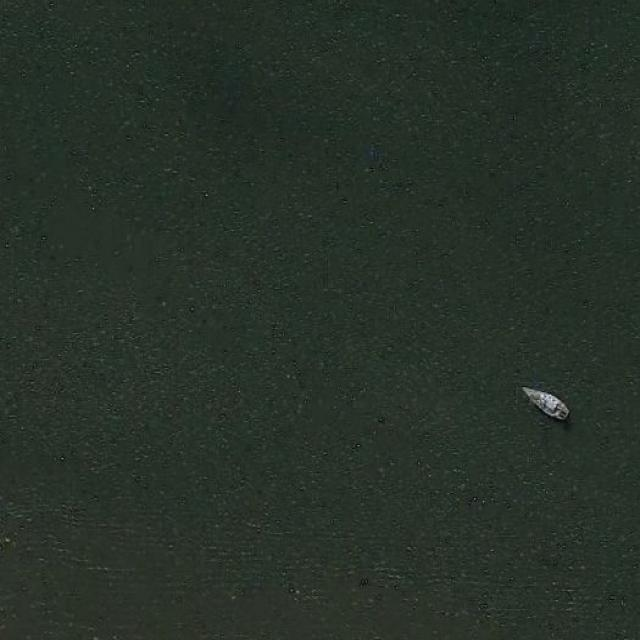ship: (517, 383, 570, 421)
